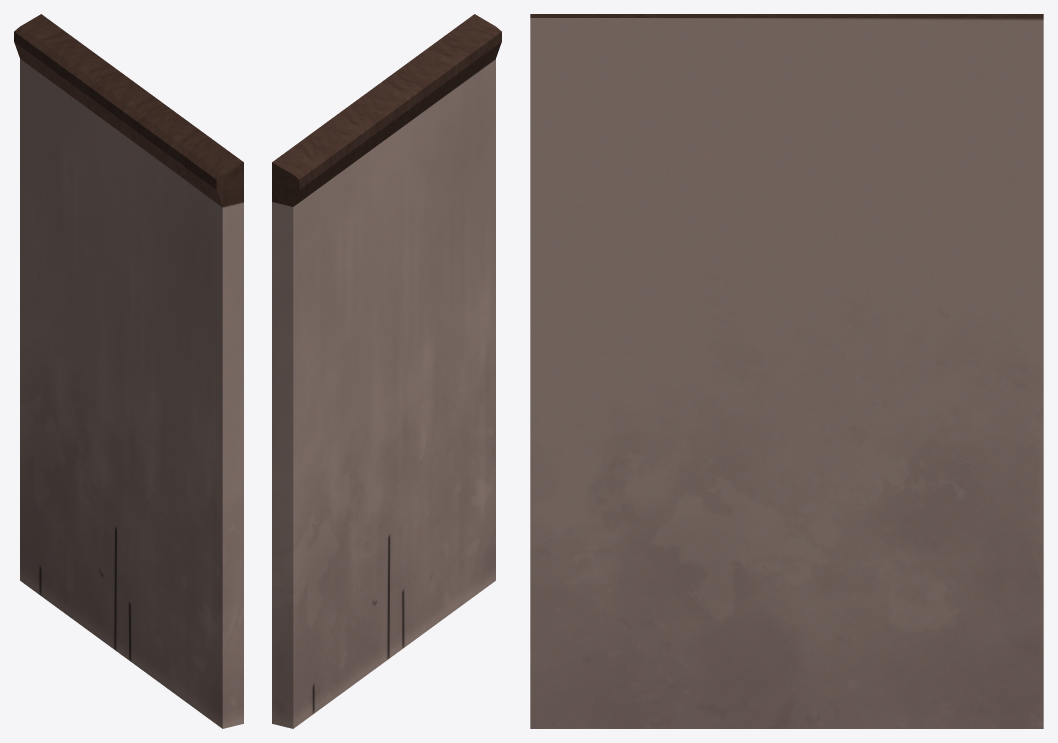
File: Msh_DecoMuraleModulaire_1m.fbx
3 views of the same model, side by side, from view 1: azimuth 30°, elevation 25°; view 2: azimuth 150°, elevation 25°; view 3: azimuth 270°, elevation 25° (orthographic). The views are drawn at different scales.
Parts seen in each view (by area): view 1: un_metre_mur1; view 2: un_metre_mur1; view 3: un_metre_mur1.
Boxes of the visible parts, box(x1,y1,x2,y2) form: un_metre_mur1: box(14, 14, 243, 728); un_metre_mur1: box(272, 14, 501, 728); un_metre_mur1: box(530, 14, 1043, 728).
Bounding box in the file's own units: 0.3849 × 4.95 × 7.57.
